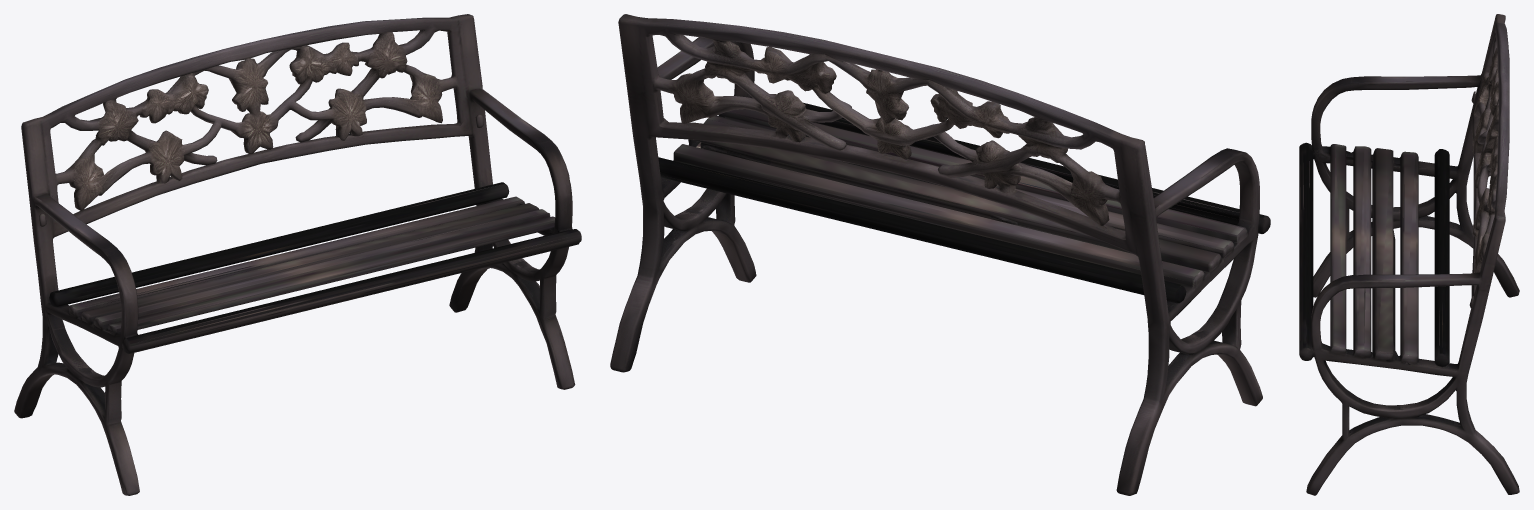
File: Iron_Garden_Bench_36InchesTall_0222184703_texture.glb
The picture shows the model from 3 angles, left to right: view 1: azimuth 30°, elevation 25°; view 2: azimuth 150°, elevation 25°; view 3: azimuth 270°, elevation 25°; orthographic projection. The views are drawn at different scales.
Parts seen in each view (by area): view 1: Mesh_0; view 2: Mesh_0; view 3: Mesh_0.
Part boxes in pixels (x1,y1,x2,y2): Mesh_0: (14,14,581,495); Mesh_0: (610,14,1270,495); Mesh_0: (1299,14,1519,495).
Size of the model in its own units: 1.35 by 0.9144 by 0.6078.
Materials: 1 (1 with a texture image).
